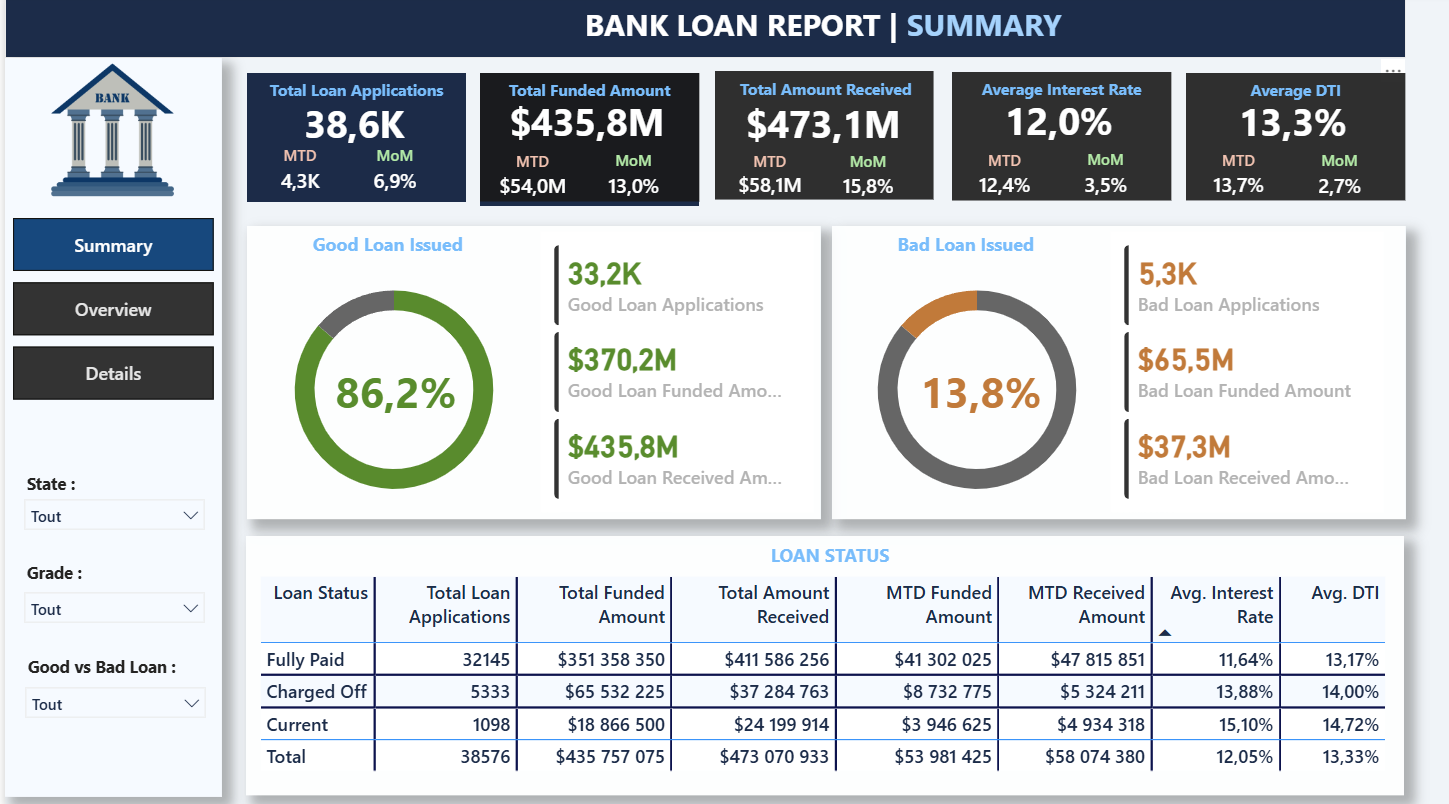

The page's visual inventory and layout, read from the dashboard file:
{"tool":"powerbi","page":{"name":"Summary","canvas":[1280,720],"ordinal":0},"visuals":[{"type":"shape","box":[629.2,66.4,193.8,114.2],"z":0,"group":"g3"},{"type":"shape","box":[839.7,67.5,194.5,114],"z":0,"group":"g4"},{"type":"shape","box":[214.3,68.6,194.3,114.3],"z":0,"group":"g1"},{"type":"shape","box":[421.4,68.6,194.5,114],"z":0,"group":"g2"},{"type":"shape","box":[1047.1,68.6,194.5,113.1],"z":0,"group":"g5"},{"type":"shape","box":[214.3,204.3,508.6,260],"z":0},{"type":"card","fields":{"Values":["table_measures.avg_interest_rate"]},"box":[851.5,82.1,165.9,58.4],"z":1000,"group":"g4"},{"type":"card","fields":{"Values":["table_measures.avg_DTI"]},"box":[1058.9,83.1,165.9,57.9],"z":1000,"group":"g5"},{"type":"card","fields":{"Values":["table_measures.total_loan_appl"]},"box":[247.2,83.2,124.3,61.3],"z":1000,"group":"g1"},{"type":"card","fields":{"Values":["table_measures.total_funded_amt"]},"box":[433.2,83.2,165.9,58.4],"z":1000,"group":"g2"},{"type":"card","fields":{"Values":["table_measures.total_received_amt"]},"box":[643.2,85.3,163.1,55.8],"z":1000,"group":"g3"},{"type":"donutChart","fields":{"Category":["financial_loan.Good vs Band Loan"],"Y":["table_measures.total_loan_appl"]},"box":[220,234.3,250,230],"z":1000},{"type":"shape","box":[0,0,1242.3,54.5],"z":2000},{"type":"textbox","box":[632.2,67,191,41.6],"z":2000,"group":"g3"},{"type":"textbox","box":[839.7,67.5,194.5,38.9],"z":2000,"group":"g4"},{"type":"textbox","box":[214.3,68.6,194.3,39],"z":2000,"group":"g1"},{"type":"textbox","box":[421.4,68.6,194.5,38.9],"z":2000,"group":"g2"},{"type":"textbox","box":[1047.1,68.6,194.5,38.6],"z":2000,"group":"g5"},{"type":"shape","box":[0,54.7,191.9,654.7],"z":3000},{"type":"card","title":"MTD","fields":{"Values":["table_measures.MTD_loan_appl"]},"box":[235.7,132.7,51.4,50.2],"z":3000,"group":"g1"},{"type":"card","title":"MTD","fields":{"Values":["table_measures.MTD_interest_rate"]},"box":[851.5,136.3,70.1,48.6],"z":3000,"group":"g4"},{"type":"card","title":"MTD","fields":{"Values":["table_measures.MTD_avg_DTI"]},"box":[1058.9,136.9,70.1,48.3],"z":3000,"group":"g5"},{"type":"card","title":"MTD","fields":{"Values":["table_measures.MTD_received_amt"]},"box":[643.2,137.1,68.9,46.5],"z":3000,"group":"g3"},{"type":"card","title":"MTD","fields":{"Values":["table_measures.MTD_funded_amt"]},"box":[433.2,137.4,70.1,48.6],"z":3000,"group":"g2"},{"type":"card","title":"MoM","fields":{"Values":["table_measures.MOM_loan_appl"]},"box":[320,132.7,51.4,50.2],"z":4000,"group":"g1"},{"type":"card","title":"MoM","fields":{"Values":["table_measures.MOM_interest_rate"]},"box":[946.6,136.1,57.8,49.7],"z":4000,"group":"g4"},{"type":"card","title":"MoM","fields":{"Values":["table_measures.MOM_avg_DTI"]},"box":[1154,136.7,57.8,49.3],"z":4000,"group":"g5"},{"type":"card","title":"MoM","fields":{"Values":["table_measures.MOM_received_amt"]},"box":[736.7,136.9,56.8,47.5],"z":4000,"group":"g3"},{"type":"card","title":"MoM","fields":{"Values":["table_measures.MOM_funded_amt"]},"box":[528.3,137.2,57.8,49.7],"z":4000,"group":"g2"},{"type":"textbox","box":[13.8,417,119.7,38.5],"z":4000},{"type":"textbox","box":[235.7,204.3,207.1,34.3],"z":5000},{"type":"card","fields":{"Values":["table_measures.good_loan_per"]},"box":[287.1,321.4,118.6,57.1],"z":6000},{"type":"textbox","box":[509.2,1.4,447.3,49.5],"z":7000},{"type":"group","id":"g1","title":"Group 1","box":[214.3,68.6,194.3,114.3],"z":8000},{"type":"group","id":"g2","title":"Group 1","box":[421.4,68.6,194.3,118],"z":9000},{"type":"group","id":"g3","title":"Group 1","box":[629.2,66.4,194,118],"z":10000},{"type":"group","id":"g4","title":"Group 1","box":[839.7,67.5,194.5,118.2],"z":11000},{"type":"group","id":"g5","title":"Group 1","box":[1047.1,68.6,194.3,117.1],"z":12000},{"type":"shape","box":[732.9,204.3,508.6,260],"z":13000},{"type":"cardVisual","fields":{"Data":["table_measures.good_loan_appl","table_measures.good_loan_funded_amt","table_measures.good_loan_received_amt"]},"box":[470,204.3,252.9,260],"z":14000},{"type":"donutChart","fields":{"Category":["financial_loan.Good vs Band Loan"],"Y":["table_measures.total_loan_appl"]},"box":[737.1,234.3,250,230],"z":15000},{"type":"card","fields":{"Values":["table_measures.bad_loan_per"]},"box":[805.7,321.4,118.6,57.1],"z":16000},{"type":"textbox","box":[748.6,204.3,207.1,34.3],"z":17000},{"type":"cardVisual","fields":{"Data":["table_measures.bad_loan_appl","table_measures.bad_loan_funded_amt","table_measures.bad_loan_received_amt"]},"box":[975.7,204.3,252.9,260],"z":18000},{"type":"shape","box":[214,479.1,1026.7,230.2],"z":19000},{"type":"tableEx","fields":{"Values":["financial_loan.loan_status","table_measures.total_loan_appl","table_measures.total_funded_amt","table_measures.total_received_amt","table_measures.MTD_funded_amt","table_measures.MTD_received_amt","table_measures.avg_interest_rate","table_measures.avg_DTI"]},"box":[220.4,509.8,1008.5,200.4],"z":20000},{"type":"textbox","box":[646.8,479.8,170.3,34.5],"z":21000},{"type":"slicer","fields":{"Values":["financial_loan.address_state"]},"box":[6.9,436.3,180.3,50.9],"z":22000},{"type":"slicer","fields":{"Values":["financial_loan.grade"]},"box":[6.9,518.9,180.3,50.9],"z":23000},{"type":"textbox","box":[13.8,495.5,119.7,38.5],"z":24000},{"type":"pageNavigator","box":[6.9,196.8,178.9,163.8],"z":25000},{"type":"image","box":[1.8,39.9,187.1,156.9],"z":26000},{"type":"slicer","fields":{"Values":["financial_loan.Good vs Band Loan"]},"box":[8.3,602.8,180.3,50.9],"z":27000},{"type":"textbox","box":[15.1,579.4,163.8,38.5],"z":28000}]}

Visuals, with their boxes in screenshot pixels (x1, y1, x2, y2), scaled from the page's 1280x720 canvas onto the 1449x804 screenshot:
shape: <box>712,74,932,202</box>
shape: <box>951,75,1171,203</box>
shape: <box>243,77,463,204</box>
shape: <box>477,77,697,204</box>
shape: <box>1185,77,1406,203</box>
shape: <box>243,228,818,518</box>
card - table_measures.avg_interest_rate: <box>964,92,1152,157</box>
card - table_measures.avg_DTI: <box>1199,93,1387,157</box>
card - table_measures.total_loan_appl: <box>280,93,421,161</box>
card - table_measures.total_funded_amt: <box>490,93,678,158</box>
card - table_measures.total_received_amt: <box>728,95,913,158</box>
donutChart - financial_loan.Good vs Band Loan x table_measures.total_loan_appl: <box>249,262,532,518</box>
shape: <box>0,0,1406,61</box>
textbox: <box>716,75,932,121</box>
textbox: <box>951,75,1171,119</box>
textbox: <box>243,77,463,120</box>
textbox: <box>477,77,697,120</box>
textbox: <box>1185,77,1406,120</box>
shape: <box>0,61,217,792</box>
"MTD" card: <box>267,148,325,204</box>
"MTD" card: <box>964,152,1043,206</box>
"MTD" card: <box>1199,153,1278,207</box>
"MTD" card: <box>728,153,806,205</box>
"MTD" card: <box>490,153,570,208</box>
"MoM" card: <box>362,148,420,204</box>
"MoM" card: <box>1072,152,1137,207</box>
"MoM" card: <box>1306,153,1372,208</box>
"MoM" card: <box>834,153,898,206</box>
"MoM" card: <box>598,153,663,209</box>
textbox: <box>16,466,151,509</box>
textbox: <box>267,228,501,266</box>
card - table_measures.good_loan_per: <box>325,359,459,423</box>
textbox: <box>576,2,1083,57</box>
"Group 1" group: <box>243,77,463,204</box>
"Group 1" group: <box>477,77,697,208</box>
"Group 1" group: <box>712,74,932,206</box>
"Group 1" group: <box>951,75,1171,207</box>
"Group 1" group: <box>1185,77,1405,207</box>
shape: <box>830,228,1405,518</box>
cardVisual - table_measures.good_loan_appl x table_measures.good_loan_funded_amt: <box>532,228,818,518</box>
donutChart - financial_loan.Good vs Band Loan x table_measures.total_loan_appl: <box>834,262,1117,518</box>
card - table_measures.bad_loan_per: <box>912,359,1046,423</box>
textbox: <box>847,228,1082,266</box>
cardVisual - table_measures.bad_loan_appl x table_measures.bad_loan_funded_amt: <box>1105,228,1391,518</box>
shape: <box>242,535,1405,792</box>
tableEx - financial_loan.loan_status x table_measures.total_loan_appl: <box>249,569,1391,793</box>
textbox: <box>732,536,925,574</box>
slicer - financial_loan.address_state: <box>8,487,212,544</box>
slicer - financial_loan.grade: <box>8,579,212,636</box>
textbox: <box>16,553,151,596</box>
pageNavigator: <box>8,220,210,403</box>
image: <box>2,45,214,220</box>
slicer - financial_loan.Good vs Band Loan: <box>9,673,214,730</box>
textbox: <box>17,647,203,690</box>
